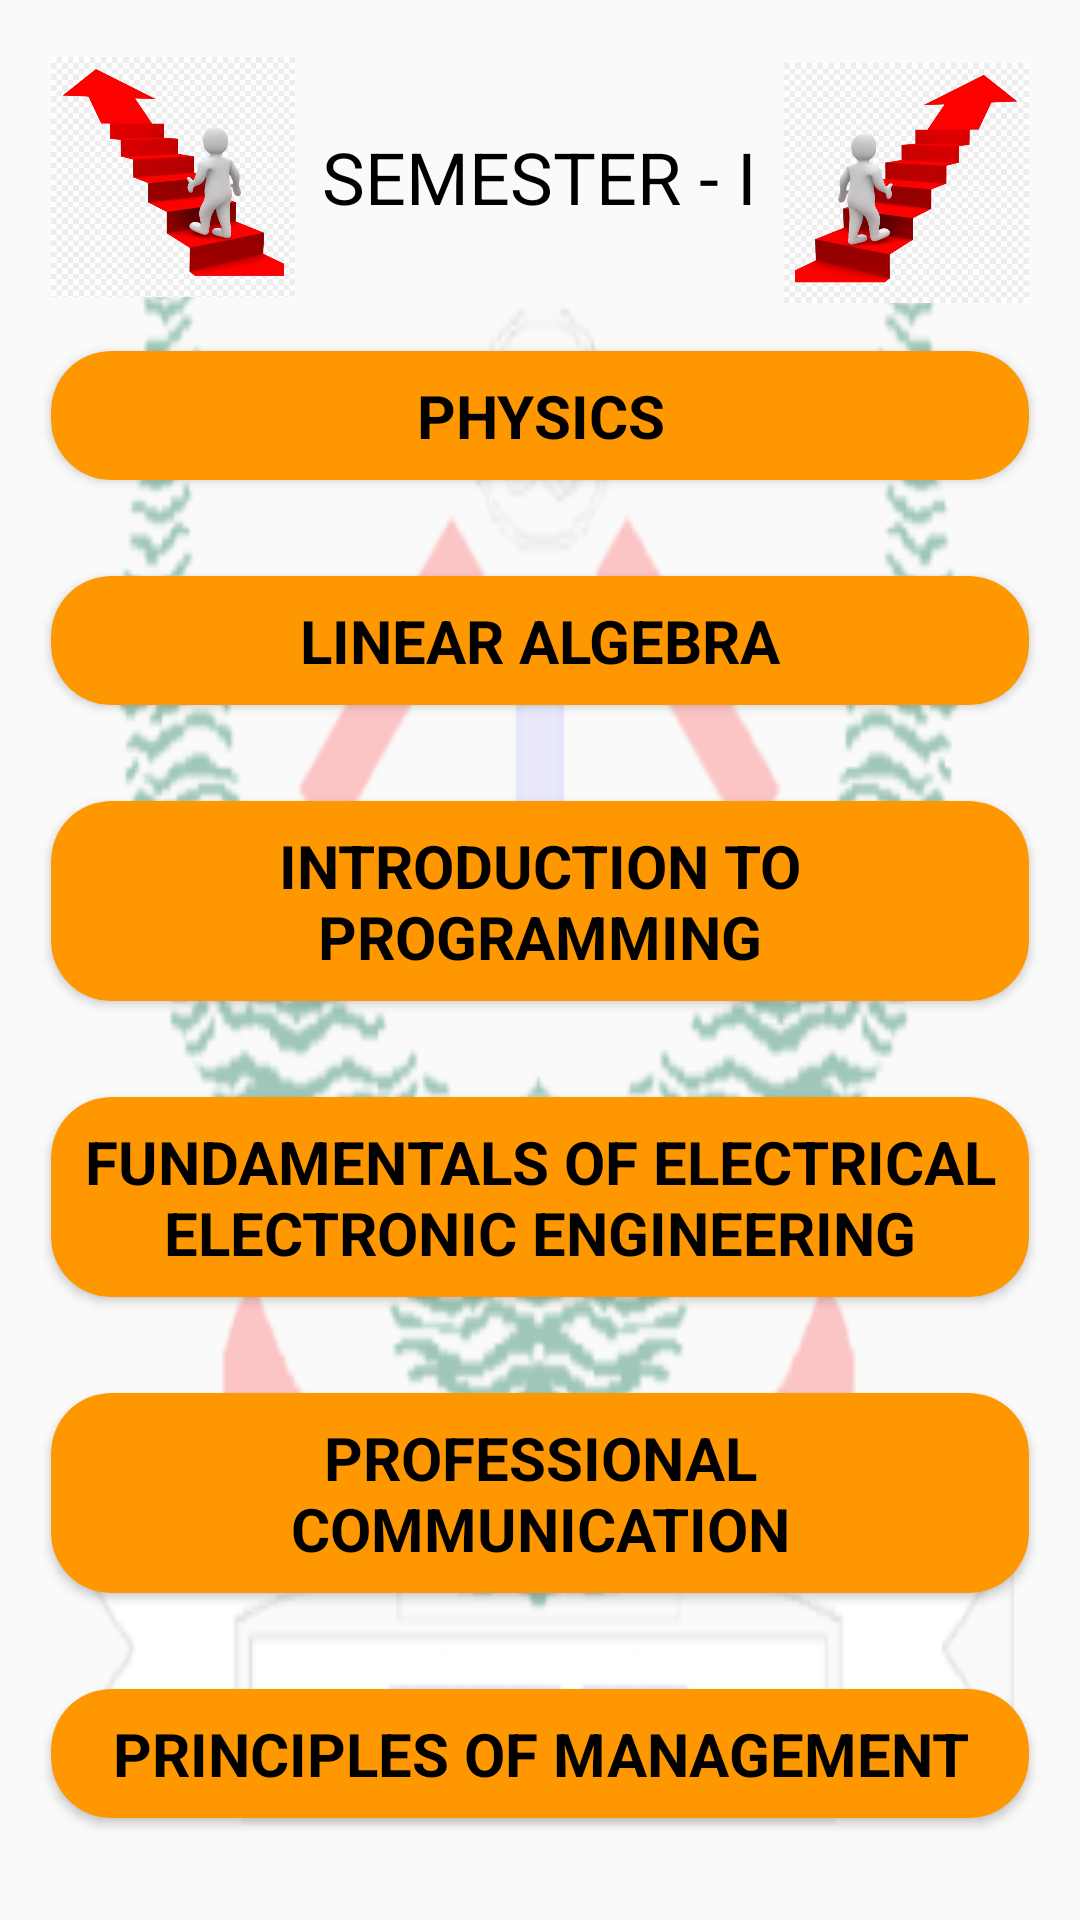

Icons on this 1080x1920 Android screen, each with its box as [x1=x1, y1=y1, x2=x2, y2=y2]:
success: [x1=63, y1=69, x2=284, y2=276], [x1=795, y1=75, x2=1018, y2=283]
